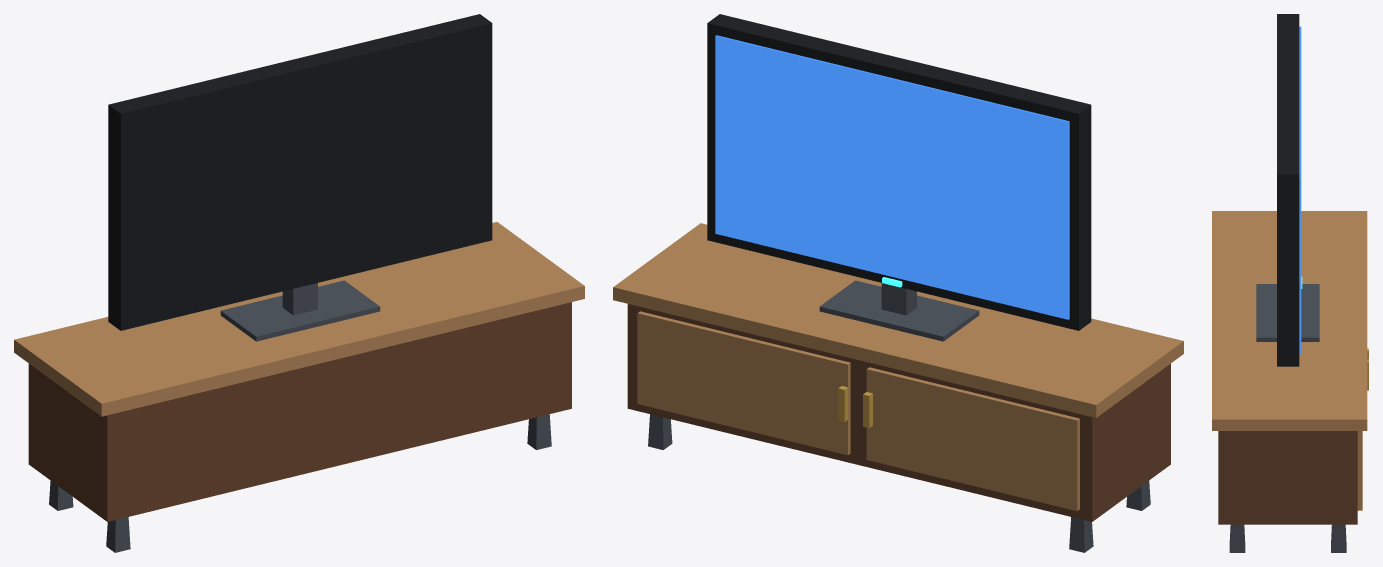
The model's file is tv_stand_tv.glb.
3 renders of one model, left to right at view 1: azimuth 30°, elevation 25°; view 2: azimuth 150°, elevation 25°; view 3: azimuth 270°, elevation 25°, orthographic. The views are drawn at different scales.
Visible parts, largest first — view 1: Body; view 2: Body; view 3: Body.
Part boxes in pixels (box(x1,y1,x2,y2)): Body: box(14, 14, 584, 552); Body: box(613, 14, 1183, 552); Body: box(1212, 14, 1368, 552).
Bounding box in the file's own units: 1.56 × 1.27 × 0.495.
